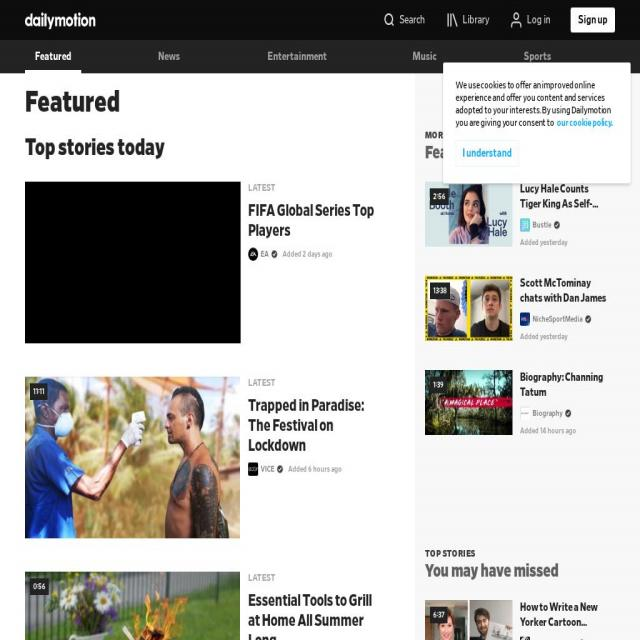login-option: (508, 8, 558, 32)
navigation-blocks: (20, 168, 401, 640)
navigation-links: (25, 37, 640, 73)
search: (376, 8, 440, 30)
sign-up-option: (572, 7, 616, 33)
